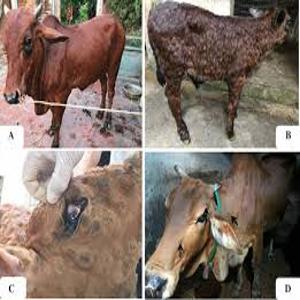lumpy skin diesease: (146, 0, 291, 144)
